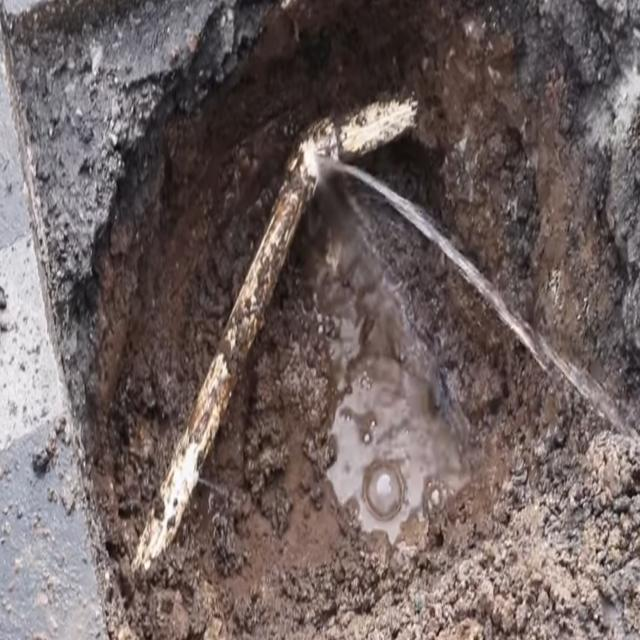leak: (318, 158, 635, 436)
